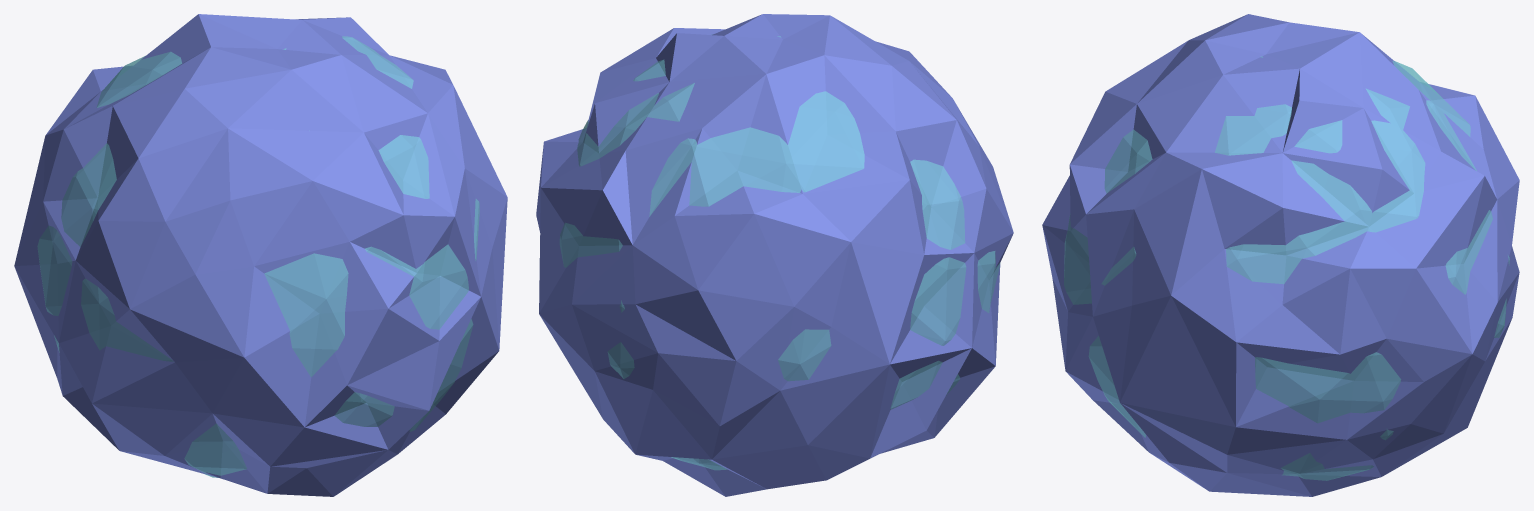
File: icy_planet8.fbx
3 views of the same model, side by side, from view 1: azimuth 30°, elevation 25°; view 2: azimuth 150°, elevation 25°; view 3: azimuth 270°, elevation 25° (orthographic). The views are drawn at different scales.
Parts seen in each view (by area): view 1: icy_planet8; view 2: icy_planet8; view 3: icy_planet8.
Boxes of the visible parts, x1,y1,x2,y2 form: icy_planet8: (14, 14, 507, 496); icy_planet8: (536, 14, 1013, 496); icy_planet8: (1042, 14, 1519, 496).
Bounding box in the file's own units: 190 × 190 × 192.
